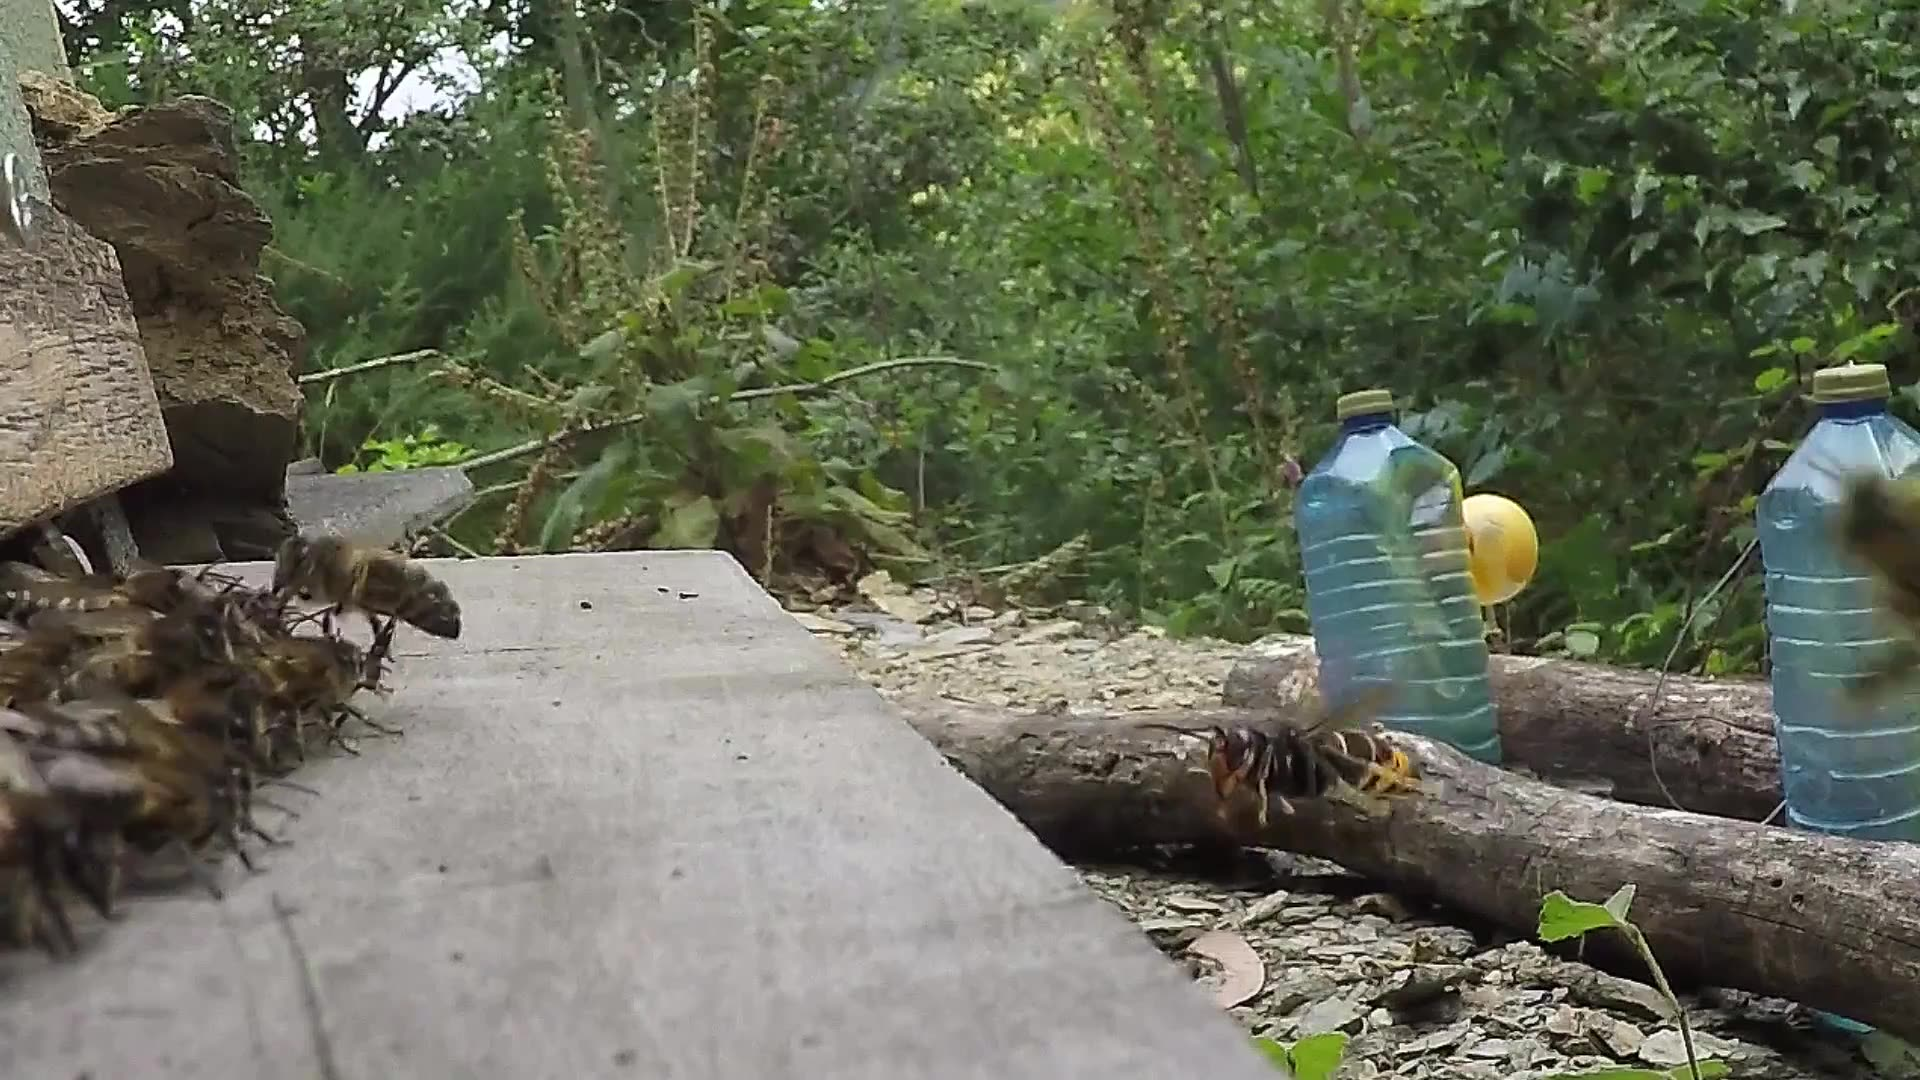bee: (1, 535, 373, 956), (266, 529, 462, 658)
hornet: (1185, 702, 1431, 829)
